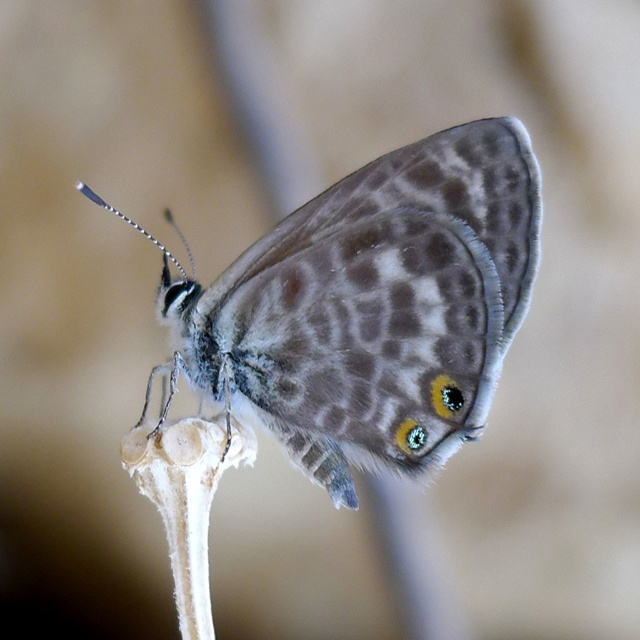Butterfly: (86, 105, 551, 515)
